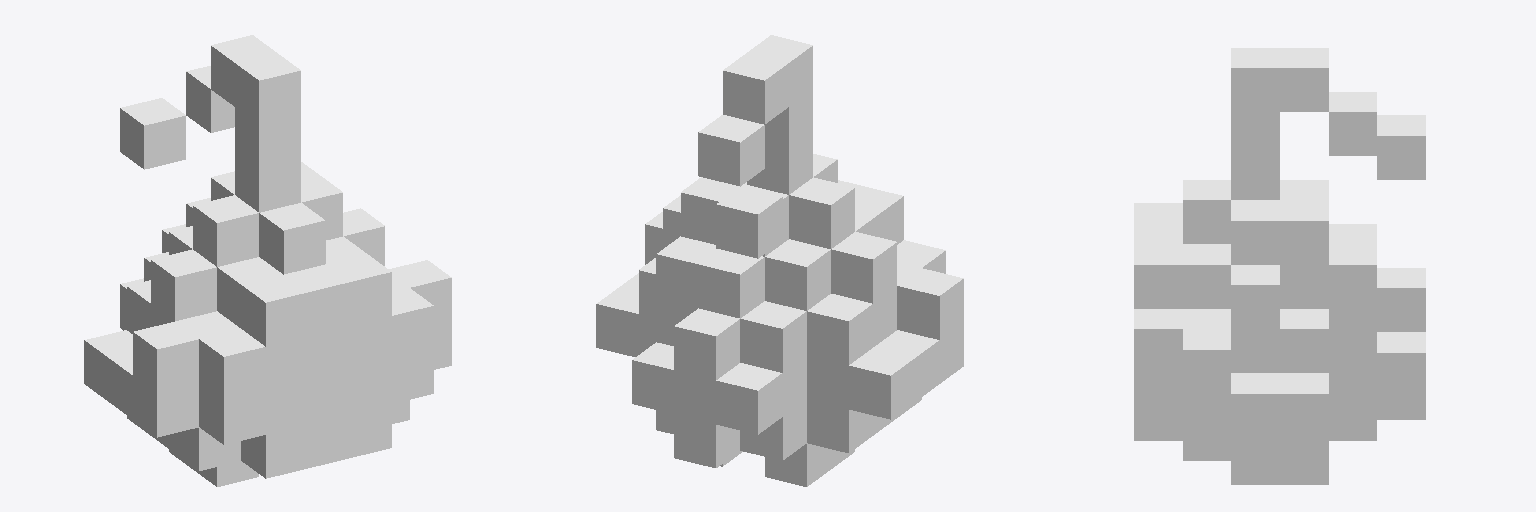
The model's file is eighth_note.obj.
3 views of the same model, side by side, from view 1: azimuth 30°, elevation 25°; view 2: azimuth 150°, elevation 25°; view 3: azimuth 270°, elevation 25° (orthographic).
Parts seen in each view (by area): view 1: object 1; view 2: object 1; view 3: object 1.
Boxes of the visible parts, x1,y1,x2,y2 form: object 1: [84, 35, 451, 486]; object 1: [596, 35, 963, 486]; object 1: [1134, 48, 1425, 484].
Size of the model in its own units: 0.7 by 0.9 by 0.6.